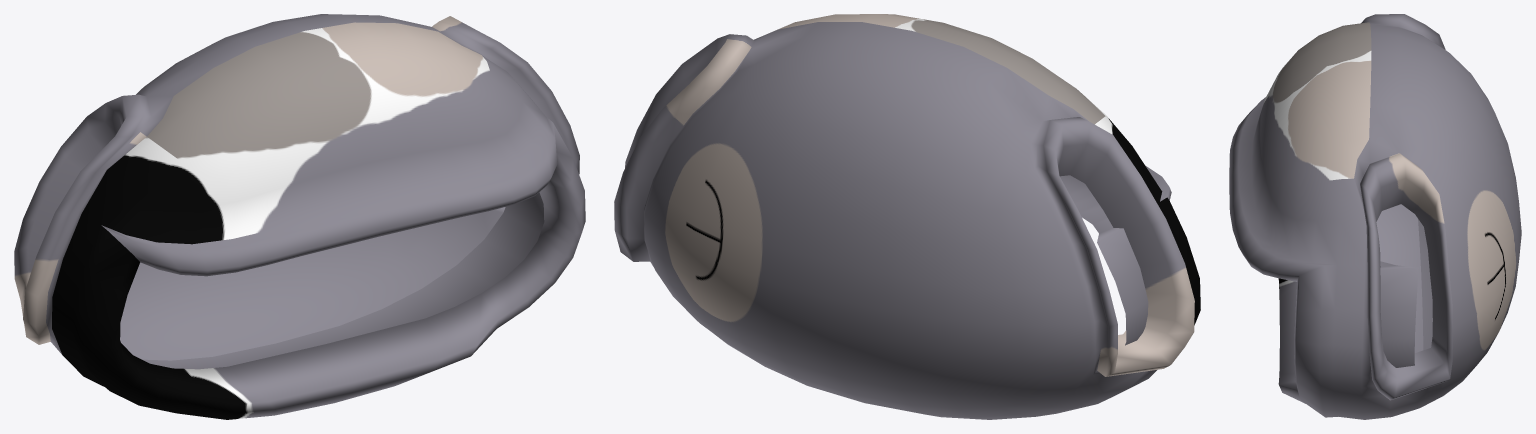
File: Capacete.fbx
3 views of the same model, side by side, from view 1: azimuth 30°, elevation 25°; view 2: azimuth 150°, elevation 25°; view 3: azimuth 270°, elevation 25° (orthographic). The views are drawn at different scales.
Parts seen in each view (by area): view 1: Cabeça.002; view 2: Cabeça.002; view 3: Cabeça.002.
Boxes of the visible parts, x1,y1,x2,y2 form: Cabeça.002: (14, 14, 585, 419); Cabeça.002: (614, 14, 1200, 419); Cabeça.002: (1229, 14, 1521, 419).
Size of the model in its own units: 249 by 496 by 300.
